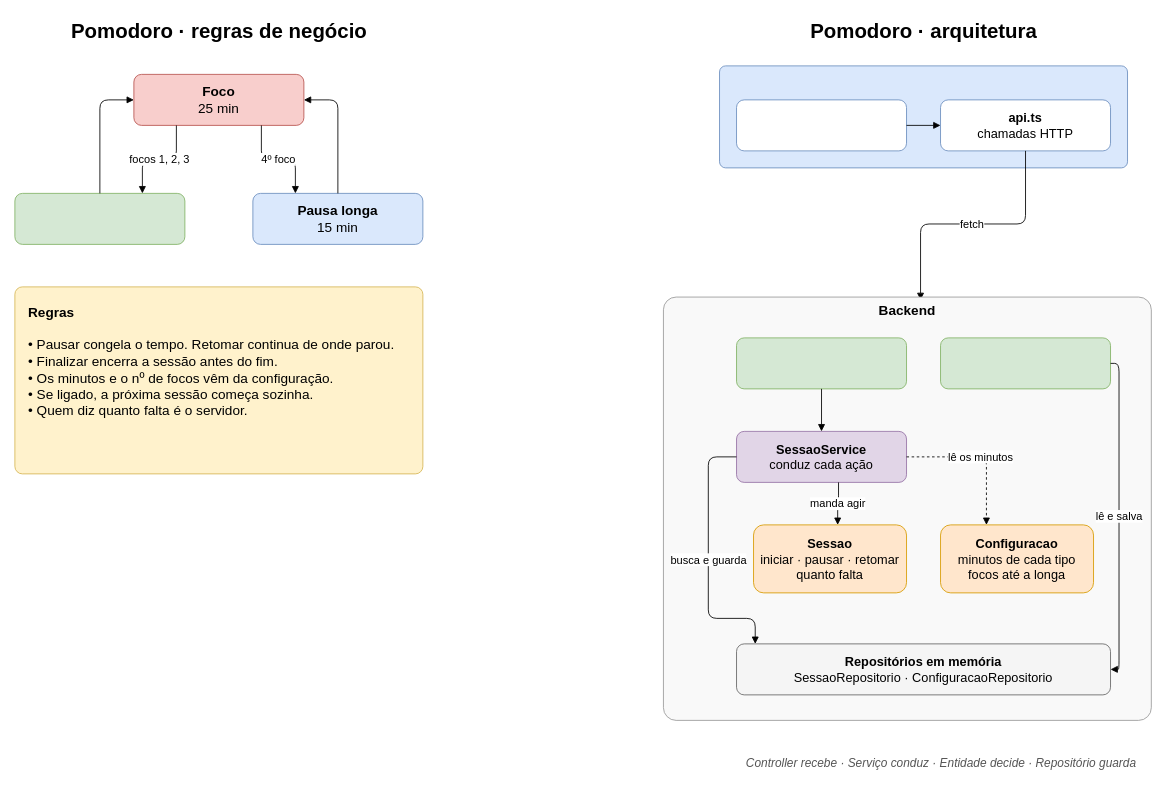
This 1166x794 diagram has some shape labels left out. The shapes that lost their labels are listed below. From the top down, each one's box as (x1, y1, x2, y2) in pixels, then its label:
(736, 99, 907, 151): App.tsx tela + relógio
(719, 65, 1128, 168): Frontend · React (navegador)
(14, 193, 185, 244): Pausa curta 5 min
(736, 337, 907, 389): SessoesController recebe o HTTP
(940, 337, 1111, 389): ConfiguracaoController recebe o HTTP
